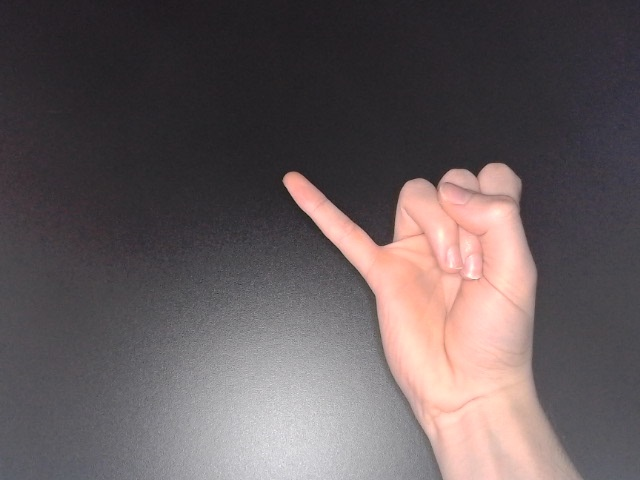j: (277, 159, 544, 424)
